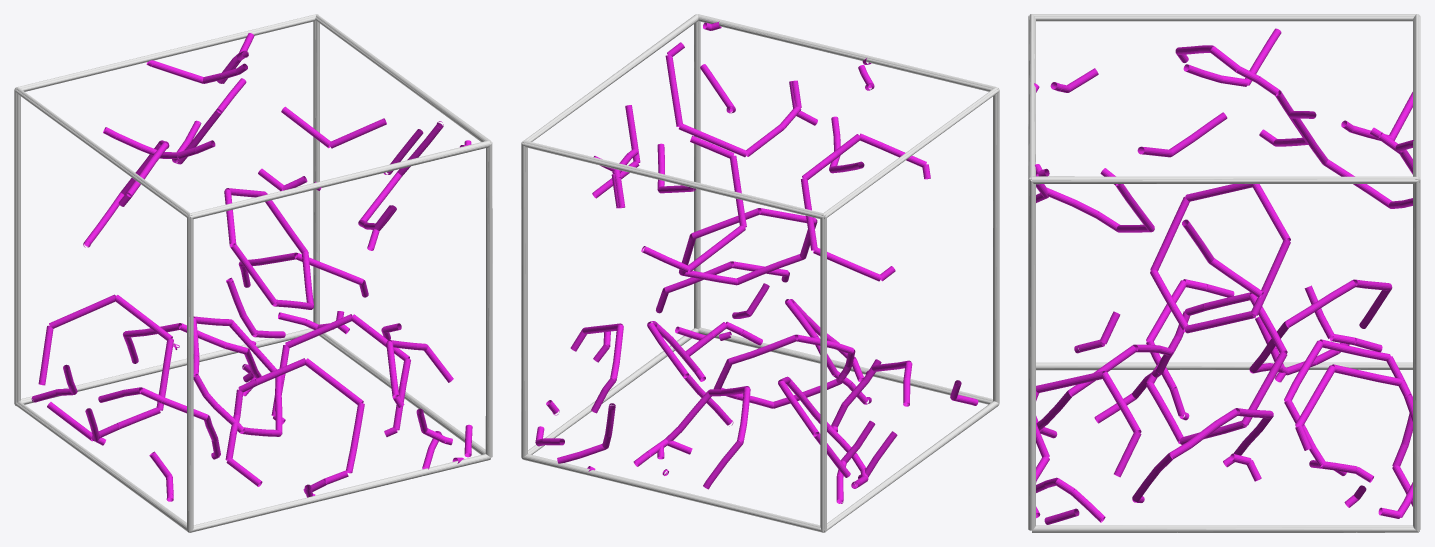
File: dislocation100.glb
The picture shows the model from 3 angles, left to right: view 1: azimuth 30°, elevation 25°; view 2: azimuth 150°, elevation 25°; view 3: azimuth 270°, elevation 25°; orthographic projection. The views are drawn at different scales.
Visible parts, largest first — view 1: Shape_IndexedLineSet.003, Shape_IndexedLineSet.002; view 2: Shape_IndexedLineSet.003, Shape_IndexedLineSet.002; view 3: Shape_IndexedLineSet.003, Shape_IndexedLineSet.002.
Part boxes in pixels (x1,y1,x2,y2): Shape_IndexedLineSet.003: (31, 33, 472, 501); Shape_IndexedLineSet.002: (14, 14, 492, 532); Shape_IndexedLineSet.003: (535, 21, 978, 503); Shape_IndexedLineSet.002: (521, 14, 999, 532); Shape_IndexedLineSet.003: (1034, 28, 1413, 524); Shape_IndexedLineSet.002: (1028, 14, 1420, 532).
Bounding box in the file's own units: 1.02 × 1.02 × 1.02.
